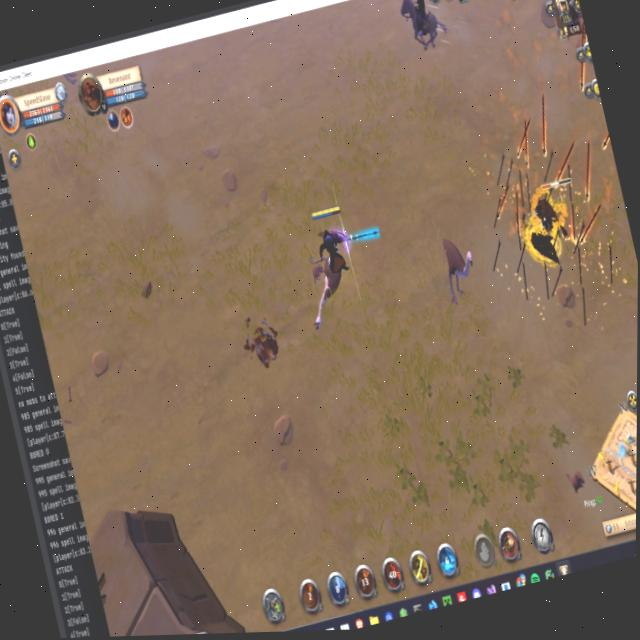mob: (295, 247, 355, 335)
ore: (512, 162, 593, 272), (434, 227, 484, 315)
red: (305, 199, 357, 284), (392, 0, 454, 61)
